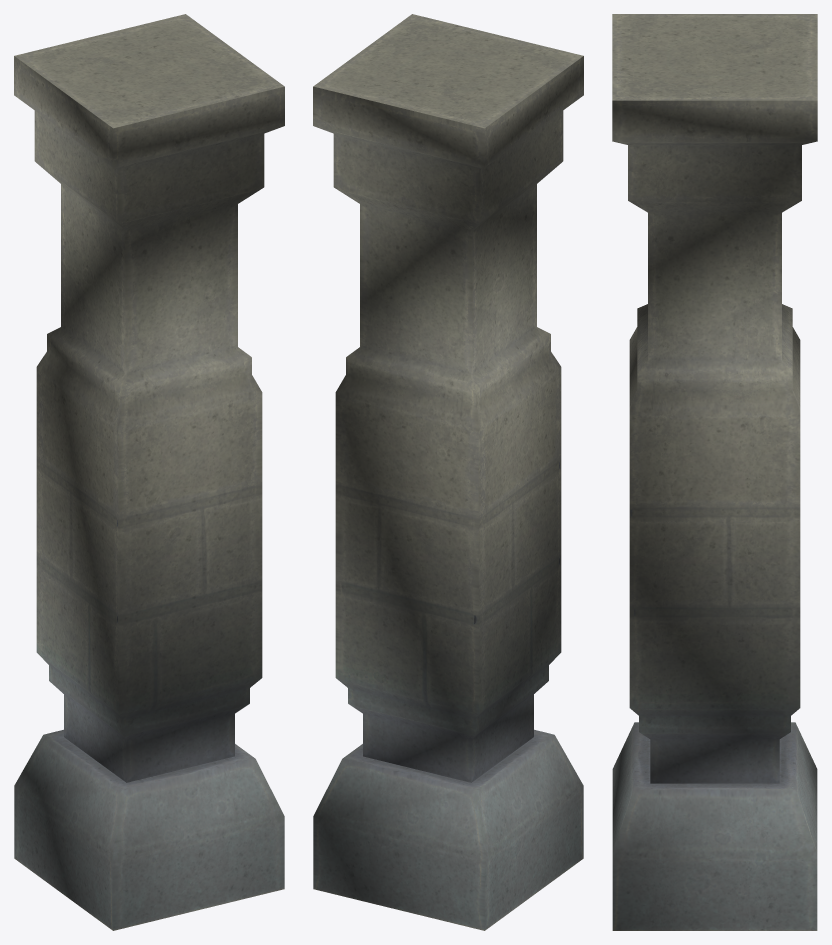
Rendered from AD_Pillar_B_01.fbx.
The picture shows the model from 3 angles, left to right: view 1: azimuth 30°, elevation 25°; view 2: azimuth 150°, elevation 25°; view 3: azimuth 270°, elevation 25°; orthographic projection. The views are drawn at different scales.
Visible parts, largest first — view 1: AD_Pillar_B_01; view 2: AD_Pillar_B_01; view 3: AD_Pillar_B_01.
Part boxes in pixels (x1=…): AD_Pillar_B_01: x1=14, y1=14, x2=284, y2=930; AD_Pillar_B_01: x1=313, y1=14, x2=583, y2=930; AD_Pillar_B_01: x1=612, y1=14, x2=817, y2=930.
Size of the model in its own units: 286 by 1277 by 286.
Materials: 1 (1 with a texture image).
